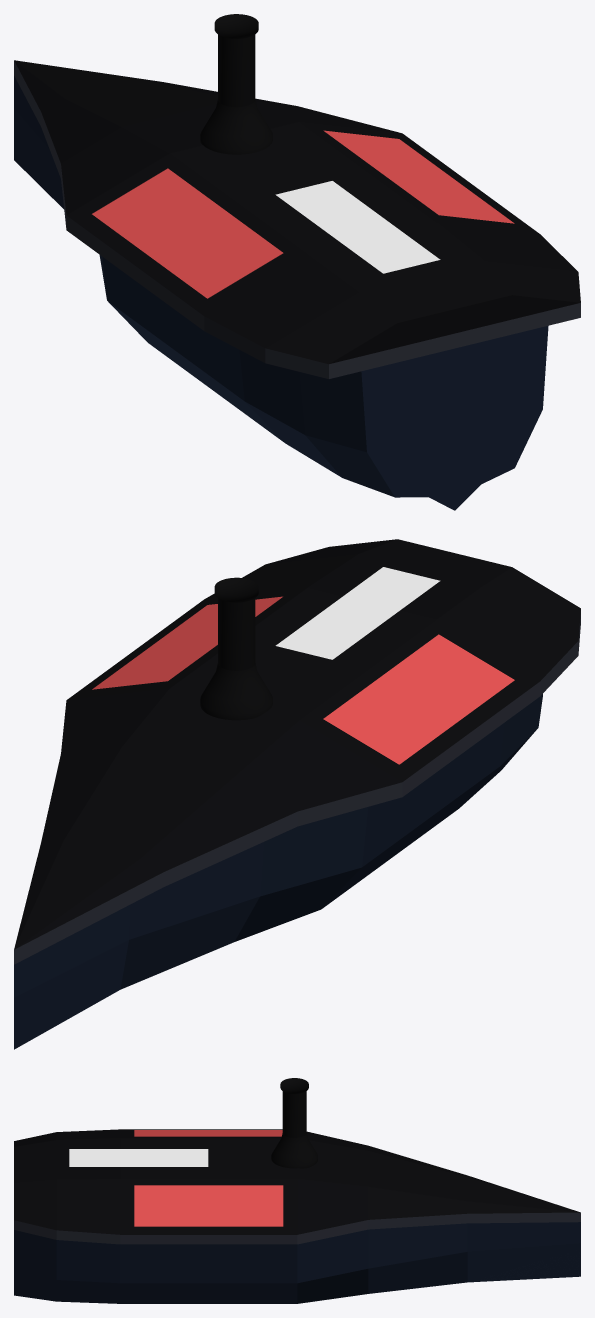
The model's file is tandavStealth.obj.
3 views of the same model, one above another, from view 1: azimuth 30°, elevation 25°; view 2: azimuth 150°, elevation 25°; view 3: azimuth 270°, elevation 25° (orthographic). The views are drawn at different scales.
Visible parts, largest first — view 1: tandavStealth; view 2: tandavStealth; view 3: tandavStealth.
Part boxes in pixels (box(x1,y1,x2,y2)): tandavStealth: box(14, 14, 580, 510); tandavStealth: box(14, 539, 580, 1049); tandavStealth: box(14, 1078, 580, 1303).
Bounding box in the file's own units: 1.76 × 1.68 × 4.
